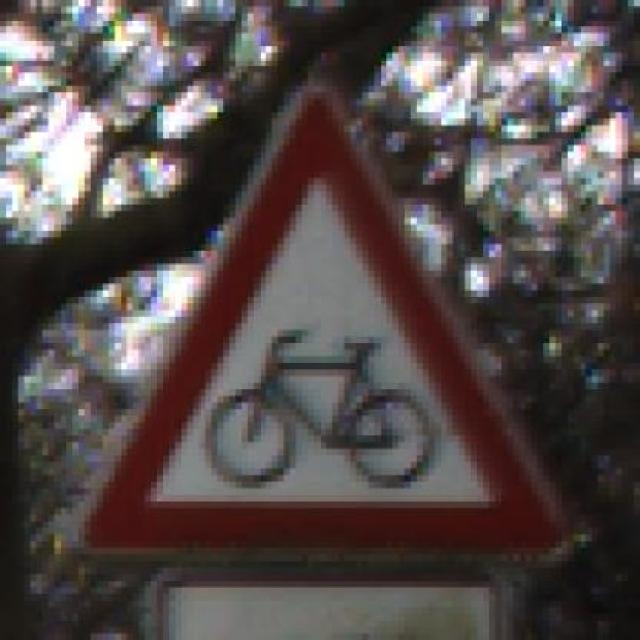CYCLE ROUTE AHEAD WARNING: (72, 66, 586, 574)
